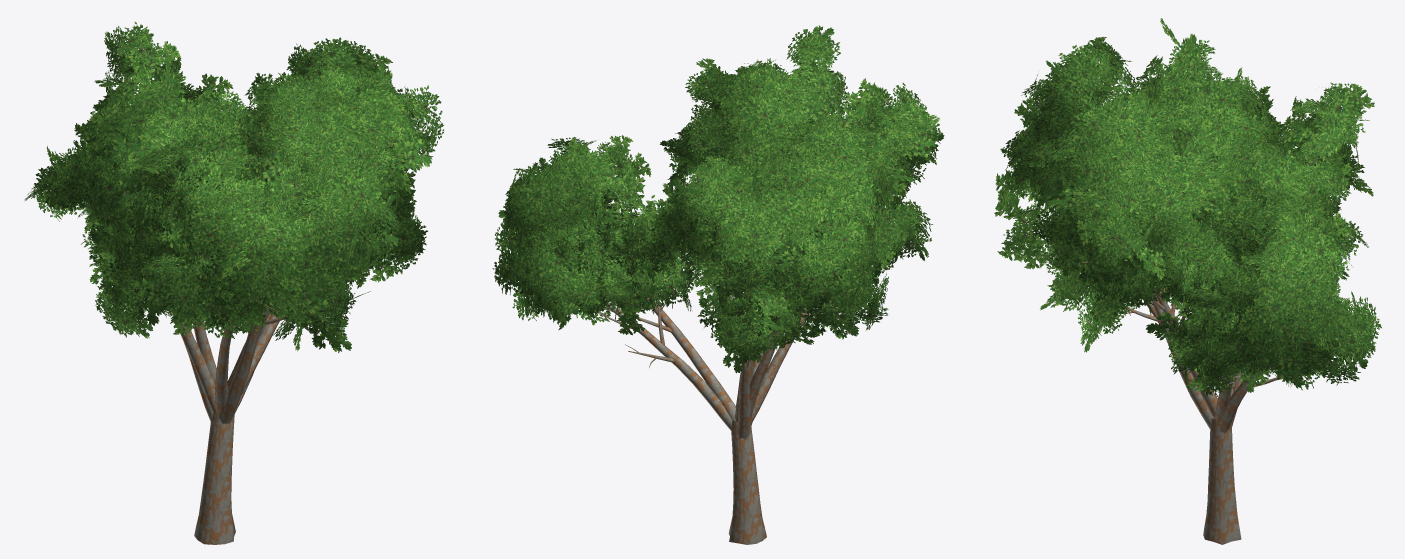
Rendered from Keyaki_B.fbx.
The picture shows the model from 3 angles, left to right: view 1: azimuth 30°, elevation 25°; view 2: azimuth 150°, elevation 25°; view 3: azimuth 270°, elevation 25°; orthographic projection. The views are drawn at different scales.
Parts seen in each view (by area): view 1: Keyaki_B; view 2: Keyaki_B; view 3: Keyaki_B.
Boxes of the visible parts, x1,y1,x2,y2 form: Keyaki_B: (24, 21, 443, 544); Keyaki_B: (492, 25, 944, 544); Keyaki_B: (994, 18, 1381, 544).
Bounding box in the file's own units: 10.19 × 12.47 × 9.44.
Materials: 2 (2 with a texture image).
